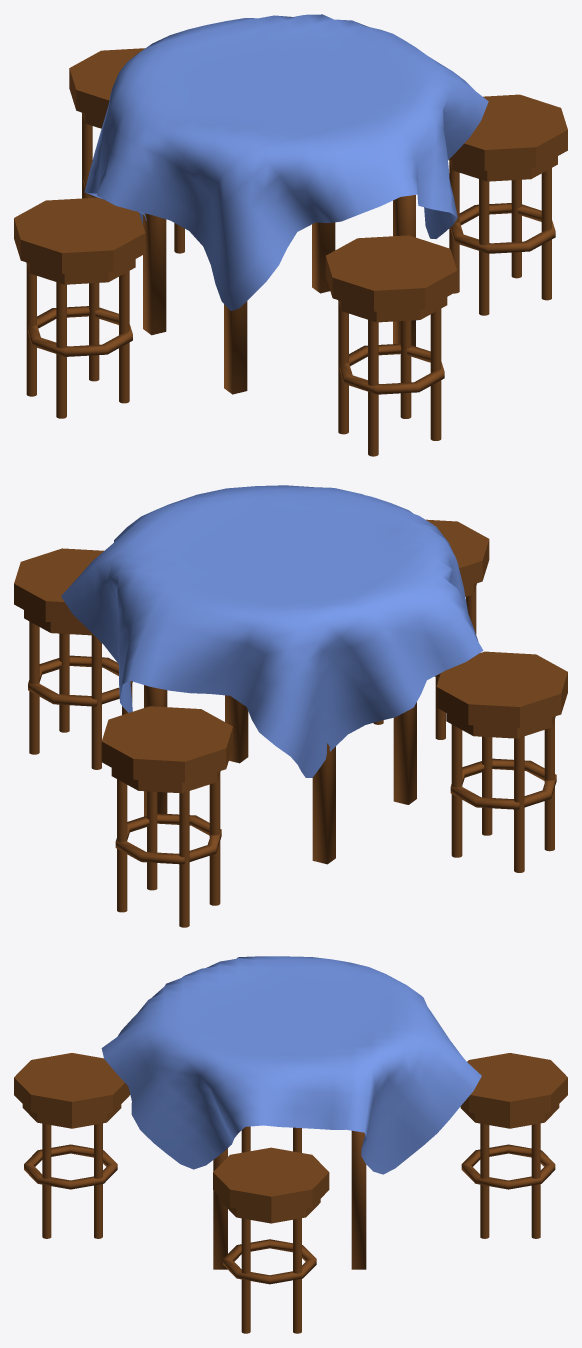
File: mesas.glb
3 views of the same model, one above another, from view 1: azimuth 30°, elevation 25°; view 2: azimuth 150°, elevation 25°; view 3: azimuth 270°, elevation 25° (orthographic). The views are drawn at different scales.
Visible parts, largest first — view 1: Plane, Cylinder.026, Cylinder.005, Cylinder.012, Cylinder.019, Cube.005, Cylinder.028, Cylinder.007, Cylinder.014, Cube, Cylinder.030, Cylinder.008 (+16 smaller); view 2: Plane, Cylinder.019, Cylinder.005, Cylinder.012, Cube.005, Cube, Cylinder.026, Cylinder.021, Cylinder.007, Cylinder.014, Cylinder.010, Cylinder.011 (+14 smaller); view 3: Plane, Cylinder.012, Cylinder.026, Cylinder.019, Cube.006, Cylinder.021, Cylinder.014, Cylinder.028, Cube.004, Cylinder.024, Cylinder.016, Cylinder.030 (+6 smaller).
Boxes of the visible parts, bbox=[...] form: Plane: bbox=[84, 14, 488, 310]; Cylinder.026: bbox=[325, 235, 456, 311]; Cylinder.005: bbox=[14, 197, 145, 273]; Cylinder.012: bbox=[449, 94, 567, 170]; Cylinder.019: bbox=[69, 48, 145, 119]; Cube.005: bbox=[143, 213, 166, 335]; Cylinder.028: bbox=[339, 343, 444, 394]; Cylinder.007: bbox=[28, 306, 132, 356]; Cylinder.014: bbox=[450, 203, 555, 253]; Cube: bbox=[224, 301, 247, 394]; Cylinder.030: bbox=[430, 309, 441, 440]; Cylinder.008: bbox=[56, 282, 66, 418]; Plane: bbox=[61, 485, 483, 777]; Cylinder.019: bbox=[101, 706, 232, 782]; Cylinder.005: bbox=[436, 651, 567, 727]; Cylinder.012: bbox=[14, 548, 103, 623]; Cube.005: bbox=[312, 743, 335, 864]; Cube: bbox=[393, 702, 416, 804]; Cylinder.026: bbox=[426, 519, 489, 587]; Cylinder.021: bbox=[115, 813, 221, 864]; Cylinder.007: bbox=[450, 758, 556, 809]; Cylinder.014: bbox=[28, 655, 132, 706]; Cylinder.010: bbox=[451, 724, 462, 857]; Cylinder.011: bbox=[514, 736, 524, 872]; Plane: bbox=[101, 956, 481, 1174]; Cylinder.012: bbox=[213, 1147, 329, 1214]; Cylinder.026: bbox=[14, 1053, 130, 1119]; Cylinder.019: bbox=[462, 1053, 567, 1119]; Cube.006: bbox=[351, 1130, 366, 1269]; Cylinder.021: bbox=[461, 1144, 555, 1189]; Cylinder.014: bbox=[223, 1239, 316, 1284]; Cylinder.028: bbox=[24, 1144, 117, 1189]; Cube.004: bbox=[213, 1148, 227, 1269]; Cylinder.024: bbox=[531, 1123, 540, 1238]; Cylinder.016: bbox=[241, 1218, 250, 1333]; Cylinder.030: bbox=[42, 1123, 51, 1238].
Size of the model in its own units: 5.51 by 2.54 by 5.72.
